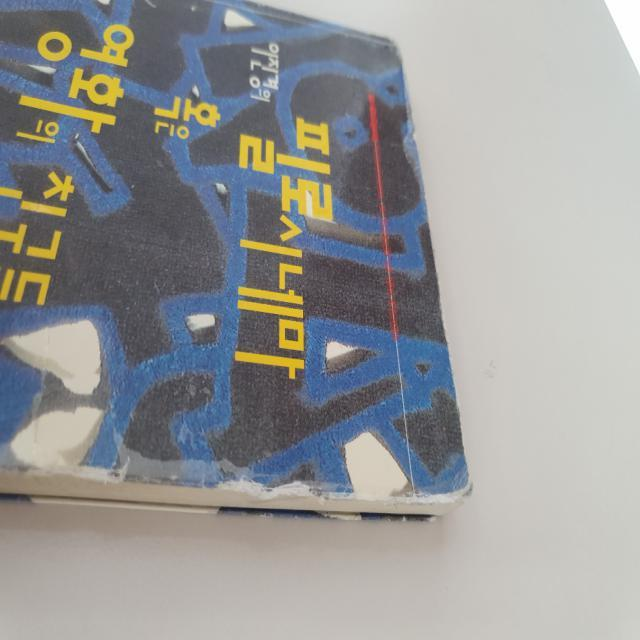Ripped: (211, 457, 329, 506)
Wornout: (332, 467, 479, 510), (0, 449, 135, 488), (399, 66, 433, 213)
